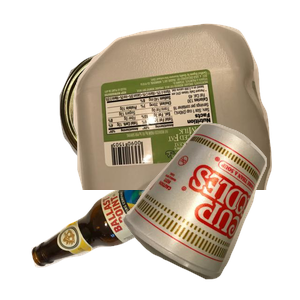glass: (29, 150, 238, 300)
metal: (57, 47, 227, 211)
plastic: (71, 21, 300, 201)
trash: (119, 121, 300, 300)
